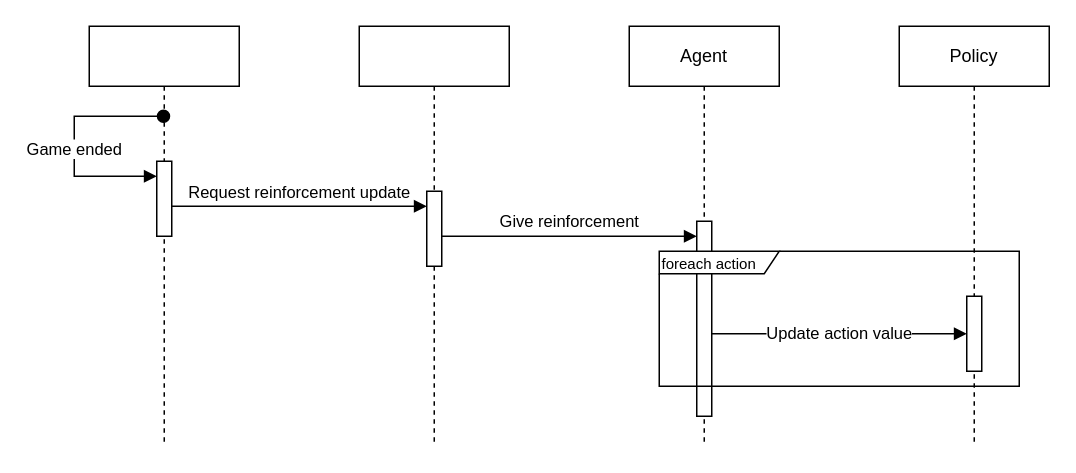
Some shapes in this 1076 by 473 pixel diagram are drawn without their labels. The centre of each missing label's shape, as x and y in pixels:
AIController: (433,235)
GameController: (163,235)
